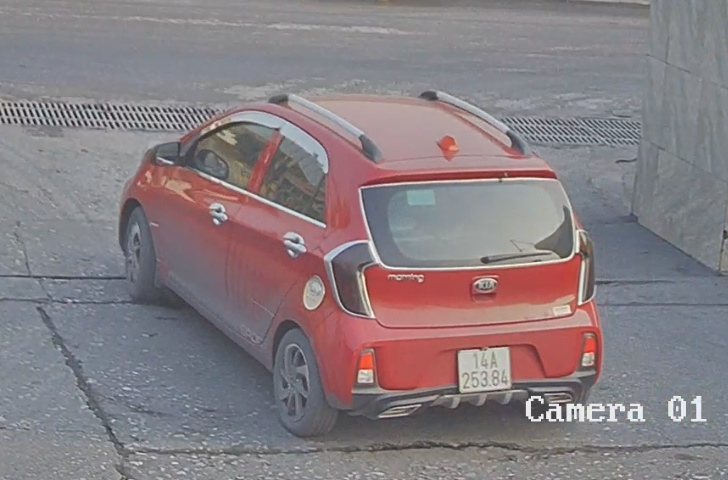vehicle plate: (458, 346, 515, 397)
